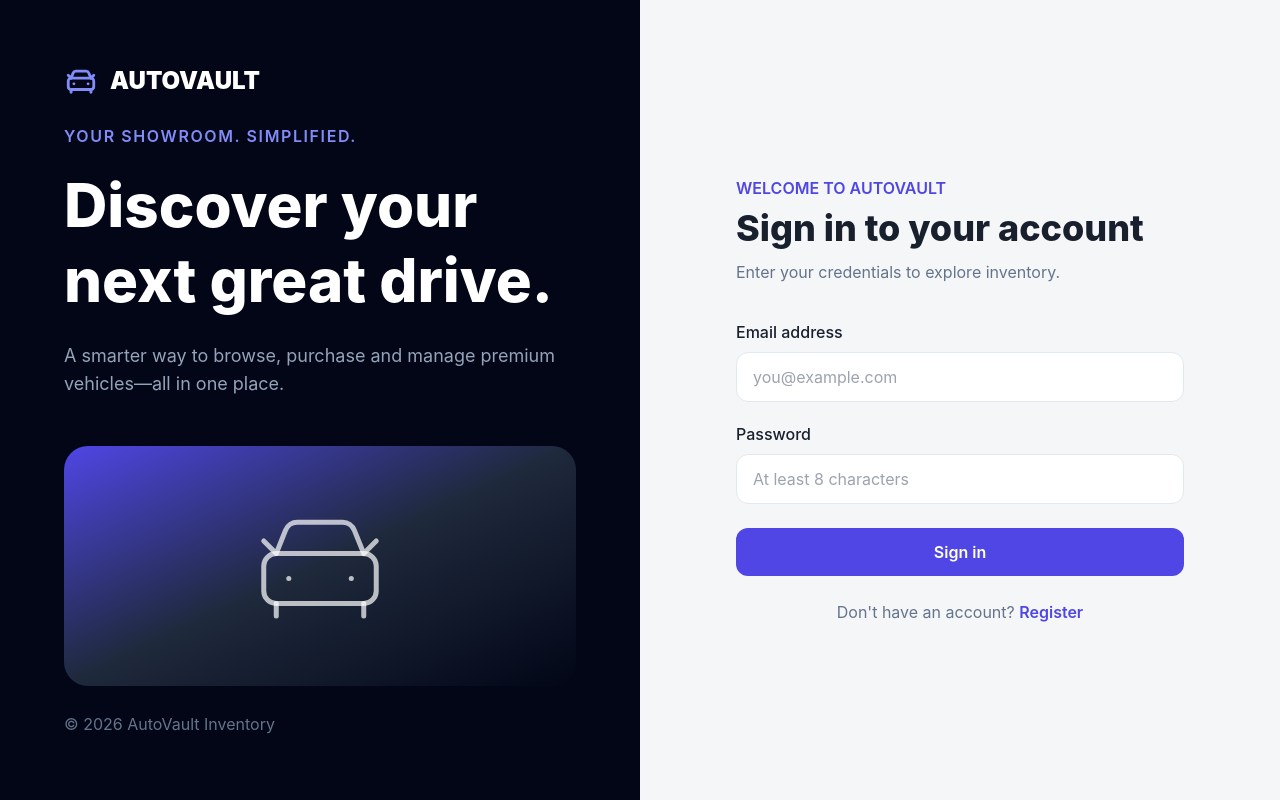
Test: logs in and shows vehicle data and totals from the API
Type "user@example.com" into the field labelled "Email address".
click(960, 377); type("user@example.com")  # box [736, 352, 1184, 402]
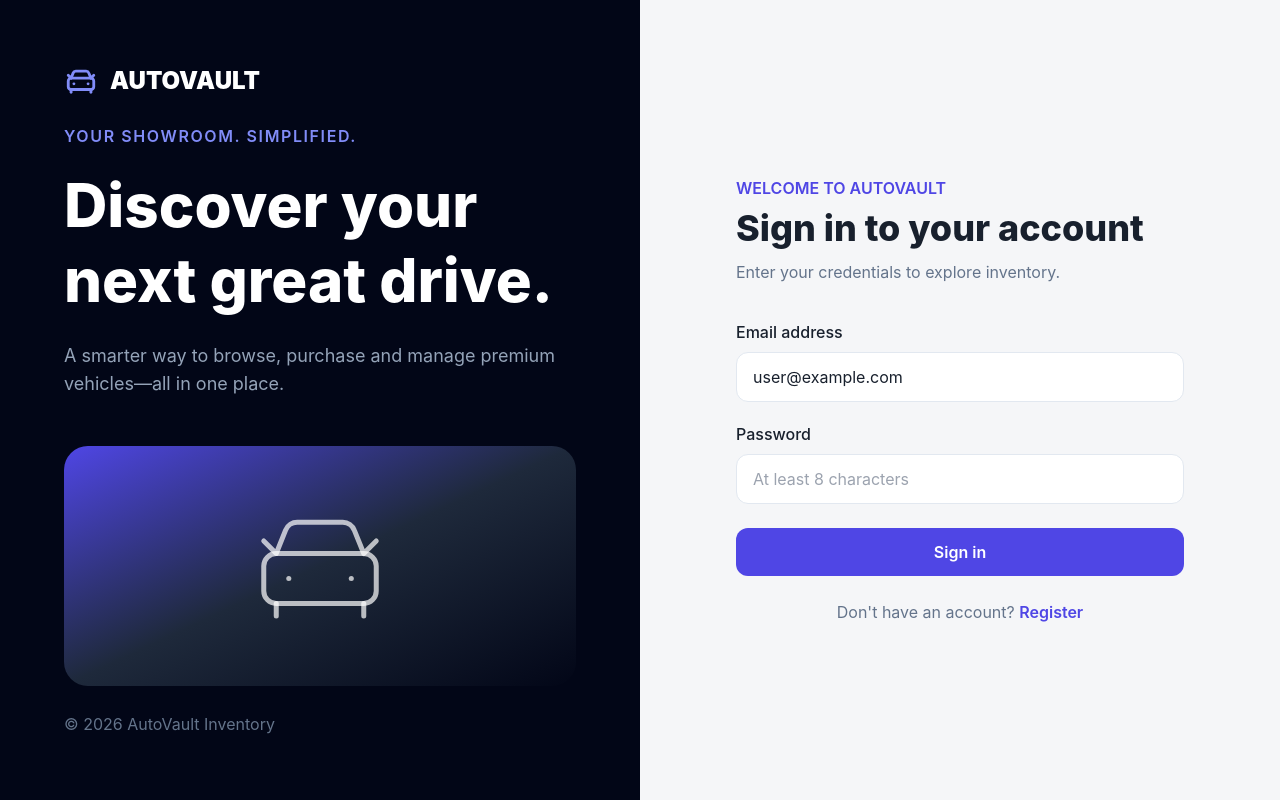
Type "Customer123" into the password field labelled "Password".
click(960, 479); type("Customer123")  # box [736, 454, 1184, 504]
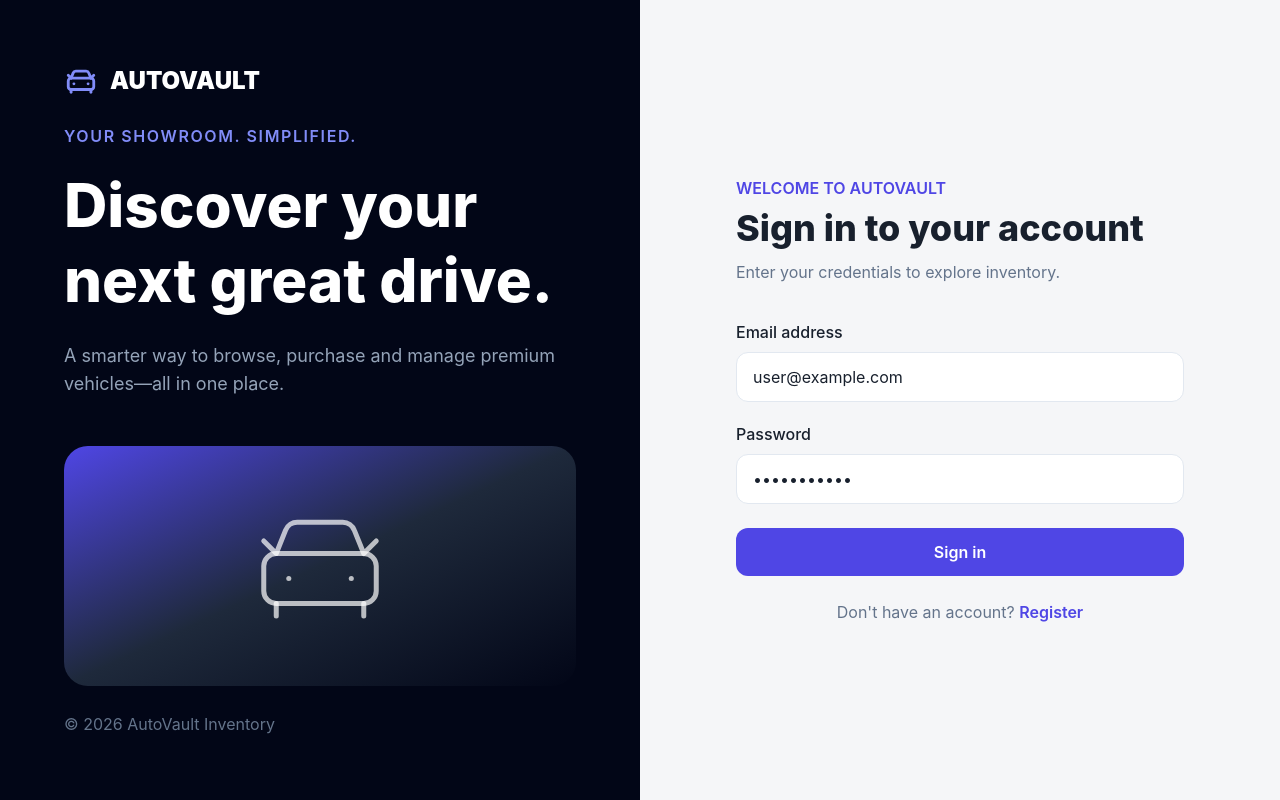
Click the button "Sign in".
click(960, 552)  # box [736, 528, 1184, 576]
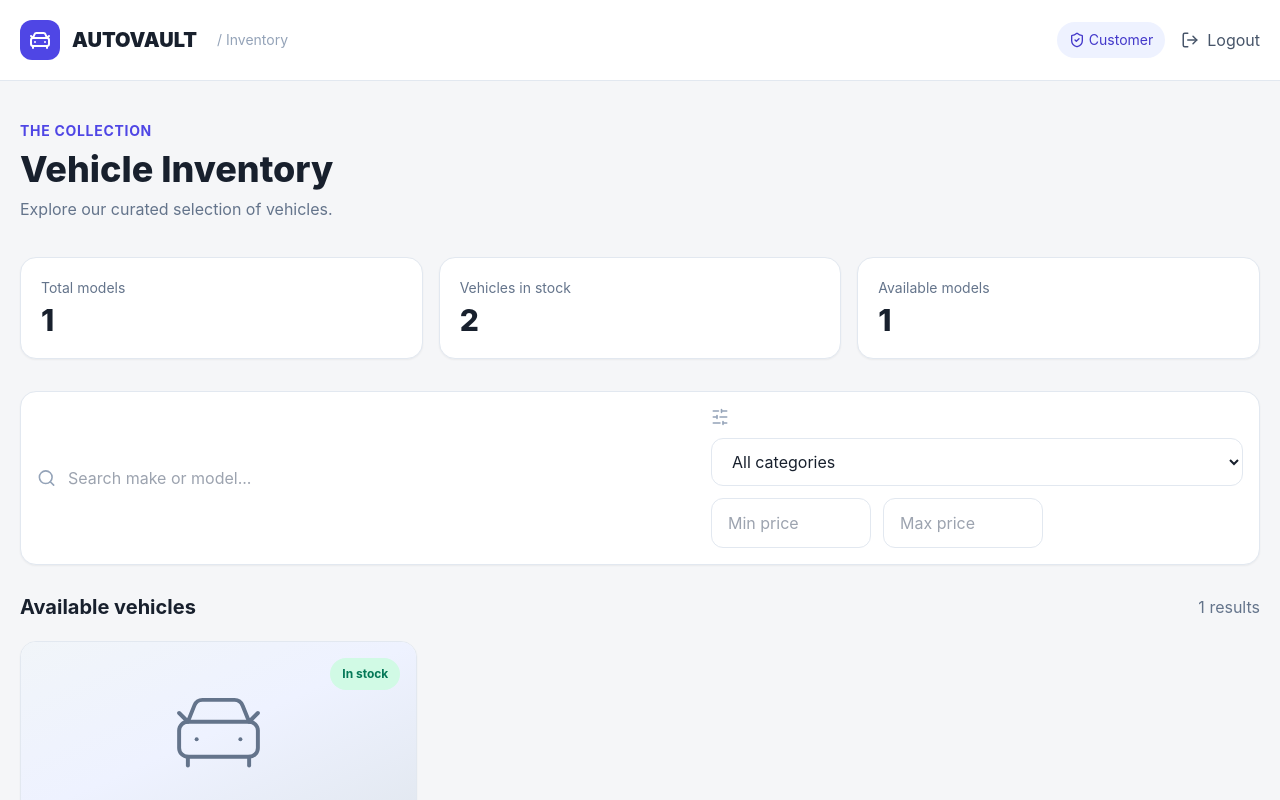
Expected: the text "2" is shown, [460, 302, 479, 338]
Click the button "Logout".
click(1221, 40)  # box [1181, 28, 1260, 52]
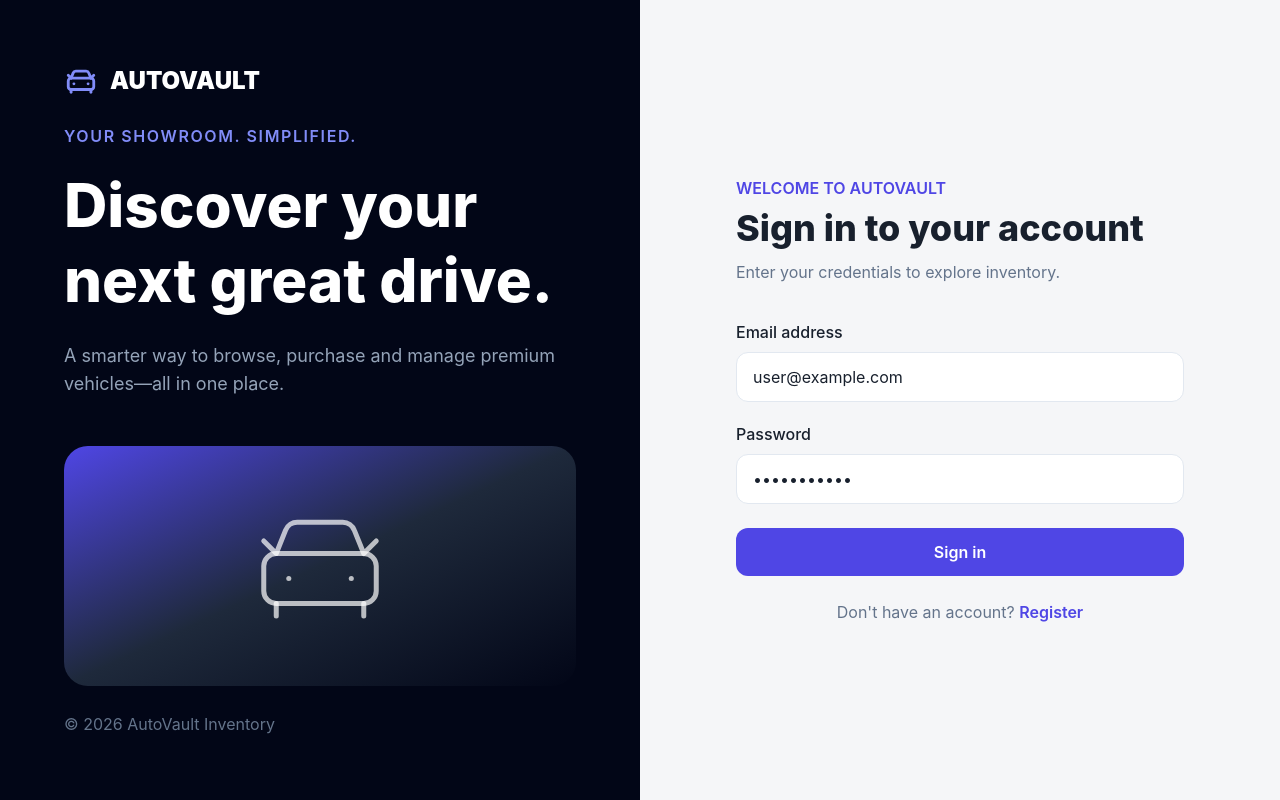
Expected: the heading "Sign in to your account" is shown, [736, 208, 1184, 248]
